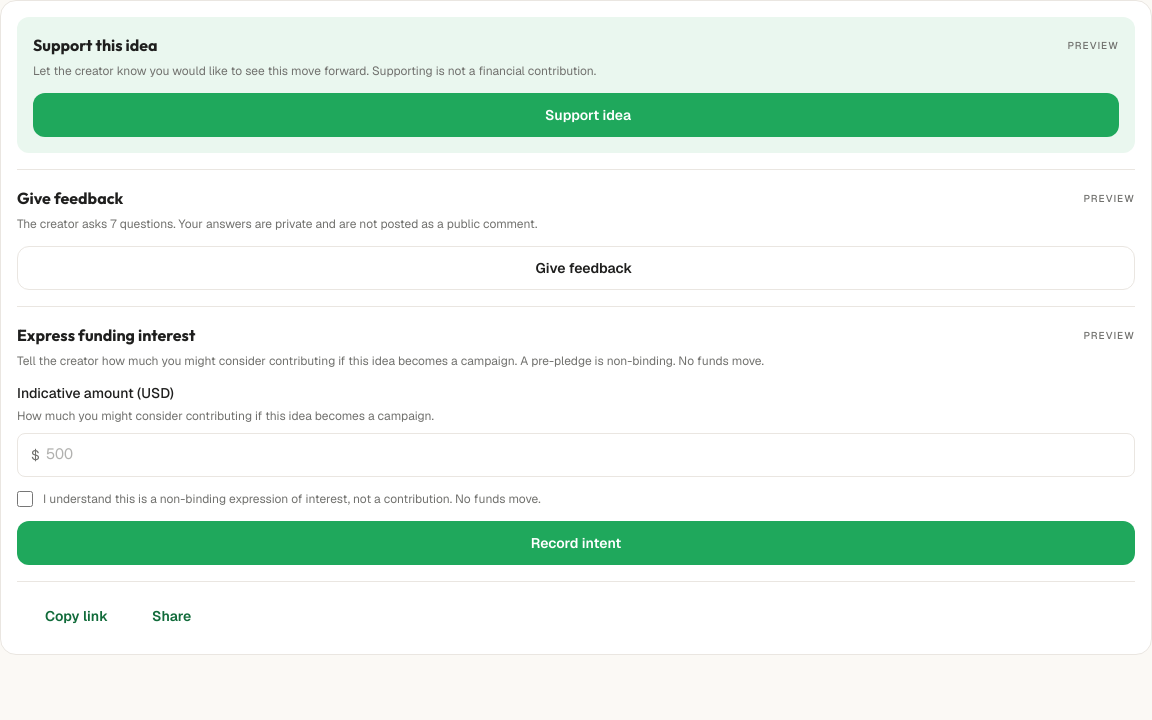
Test: IdeaActions › renders the creator's configured questions and validates required answers
The width and height of the screenshot is (1152, 720).
Click the button "Give feedback".
click(576, 268)  # box [17, 246, 1135, 290]
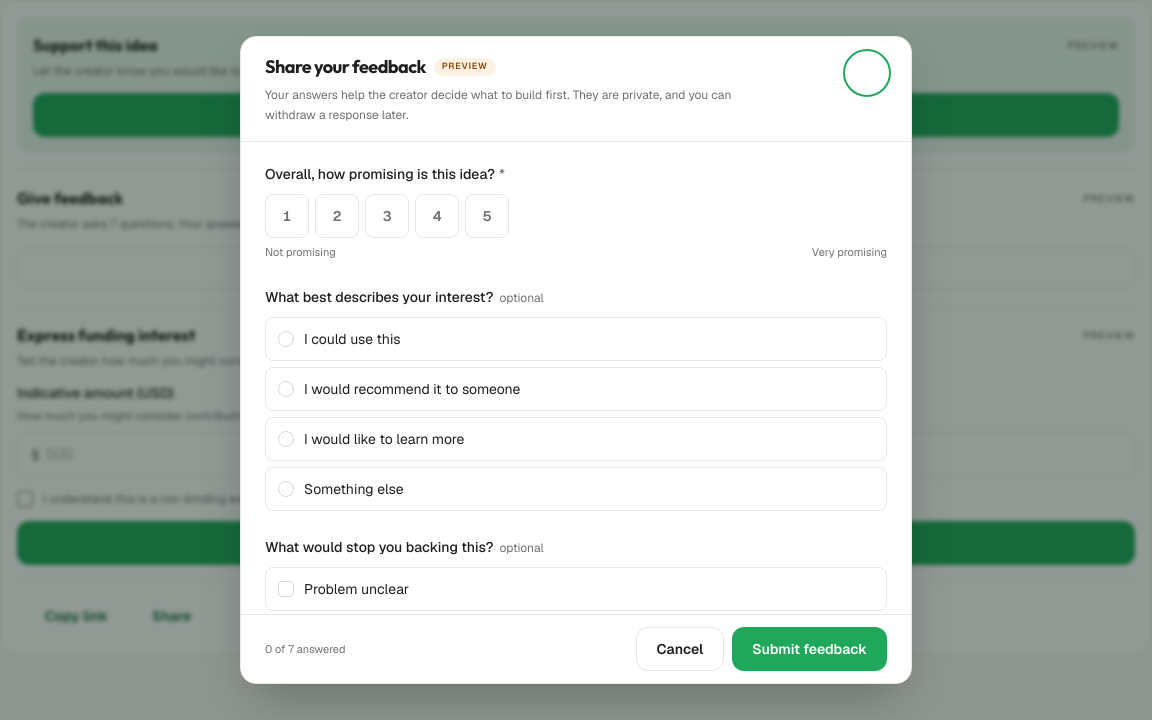
Check: the element named "Overall, how promising is this idea?" is shown, box [265, 194, 509, 238]
Check: the element named "What best describes your interest?" is shown, box [265, 316, 887, 510]
Click the button "Submit feedback".
click(810, 649)  # box [732, 627, 887, 671]
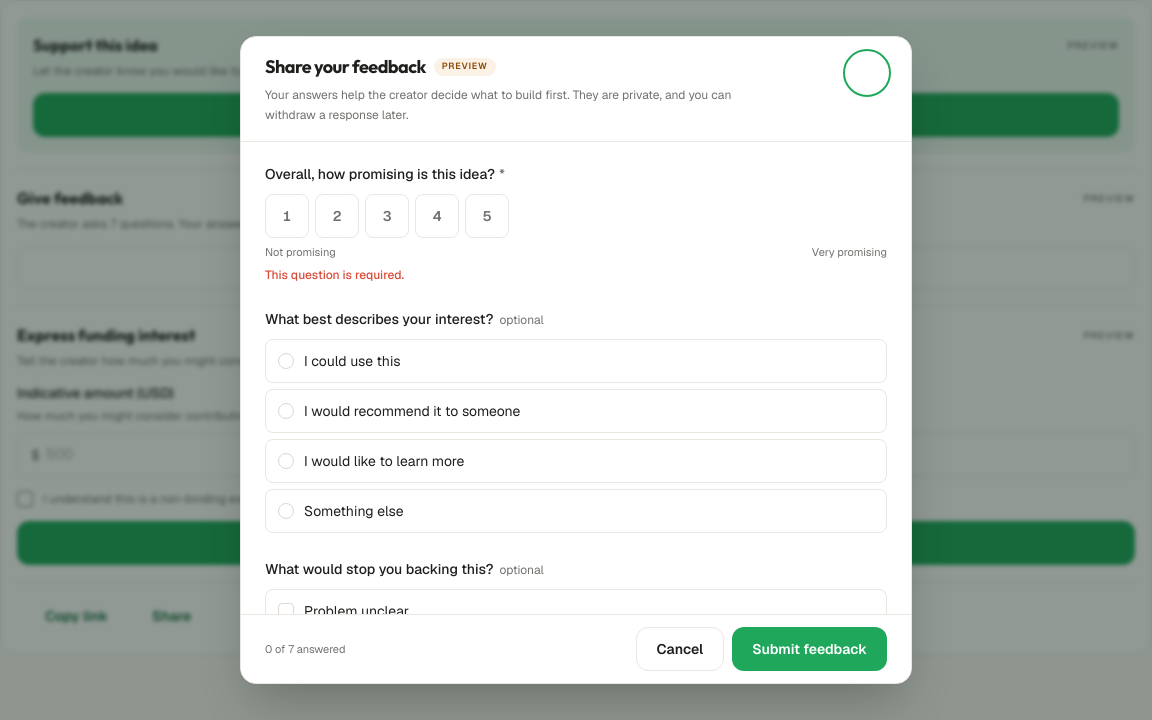
Check: the text "This question is required." is shown, box [265, 266, 404, 282]
